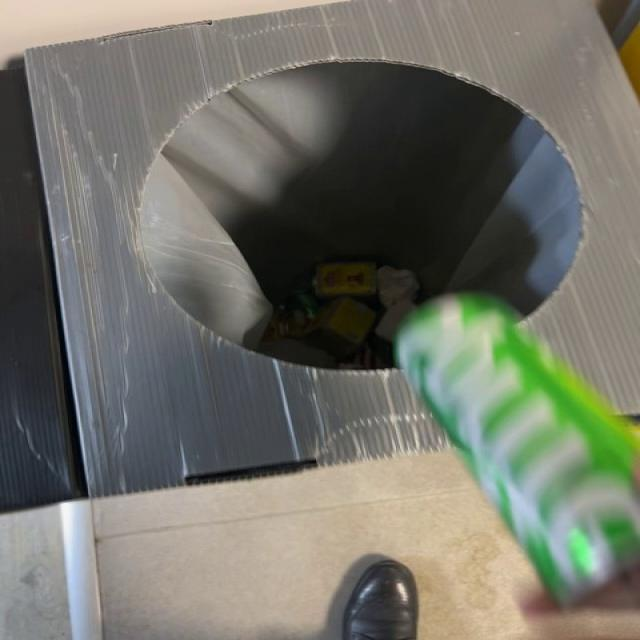bin: (24, 0, 639, 498)
metal: (396, 293, 639, 606)
